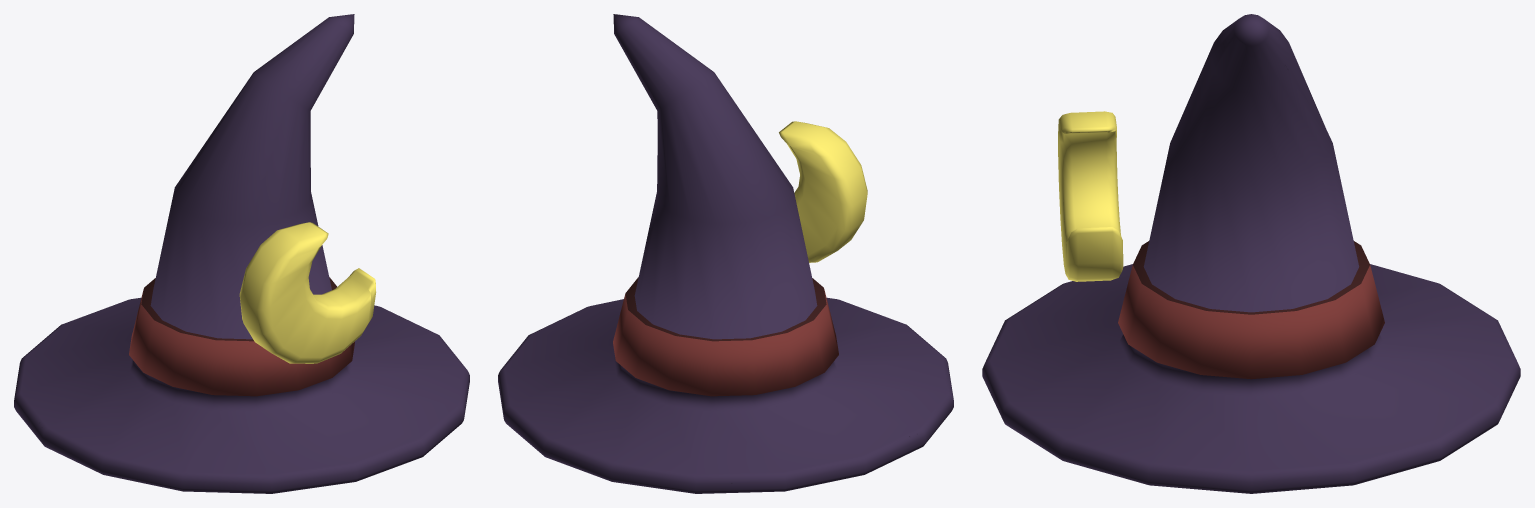
File: hat_texture.fbx
3 renders of one model, left to right at view 1: azimuth 30°, elevation 25°; view 2: azimuth 150°, elevation 25°; view 3: azimuth 270°, elevation 25°, orthographic. The views are drawn at different scales.
Parts seen in each view (by area): view 1: Hat-texture; view 2: Hat-texture; view 3: Hat-texture.
Part boxes in pixels (x1=…): Hat-texture: x1=14, y1=14, x2=469, y2=493; Hat-texture: x1=498, y1=14, x2=953, y2=493; Hat-texture: x1=982, y1=14, x2=1520, y2=493.
Bounding box in the file's own units: 251 × 216 × 251.
